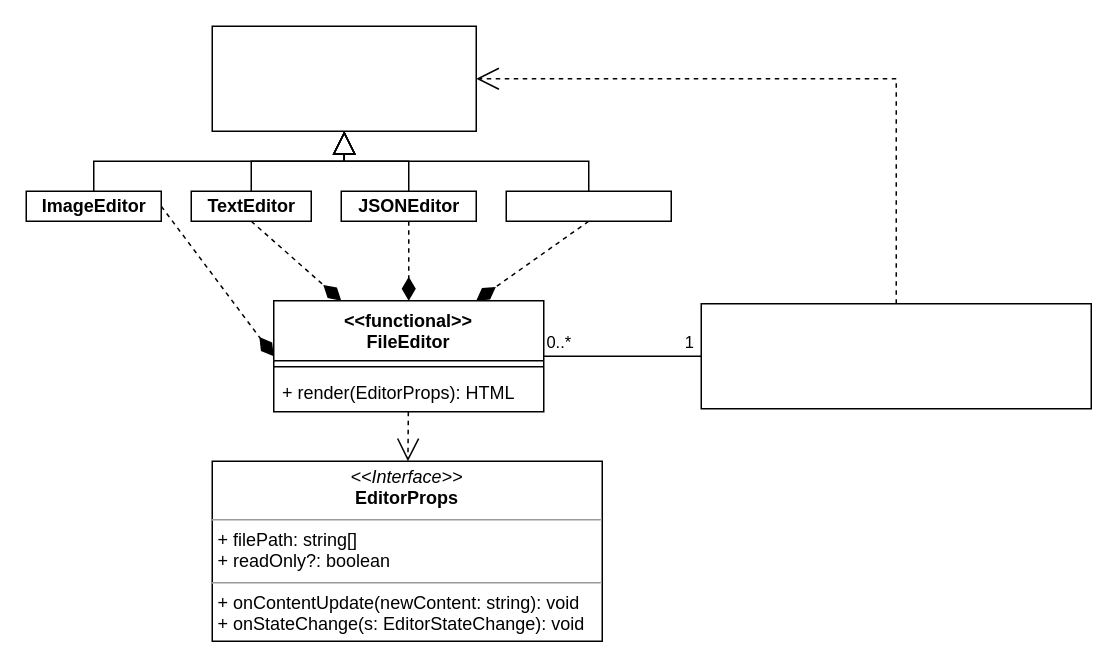
Image size: 1118x668. Some labels were removed from this diagram. Here are the shapes that lost their labels. From the top down, the centre of each, then its label:
[343,78]: <<functional interface>> EditorImpl + render(EditorProps): HTML
[588,205]: MessageEditor
[895,355]: <<entity>> EditorRegistry + getEditorsForFile(path: string[]): EditorImpl[]
